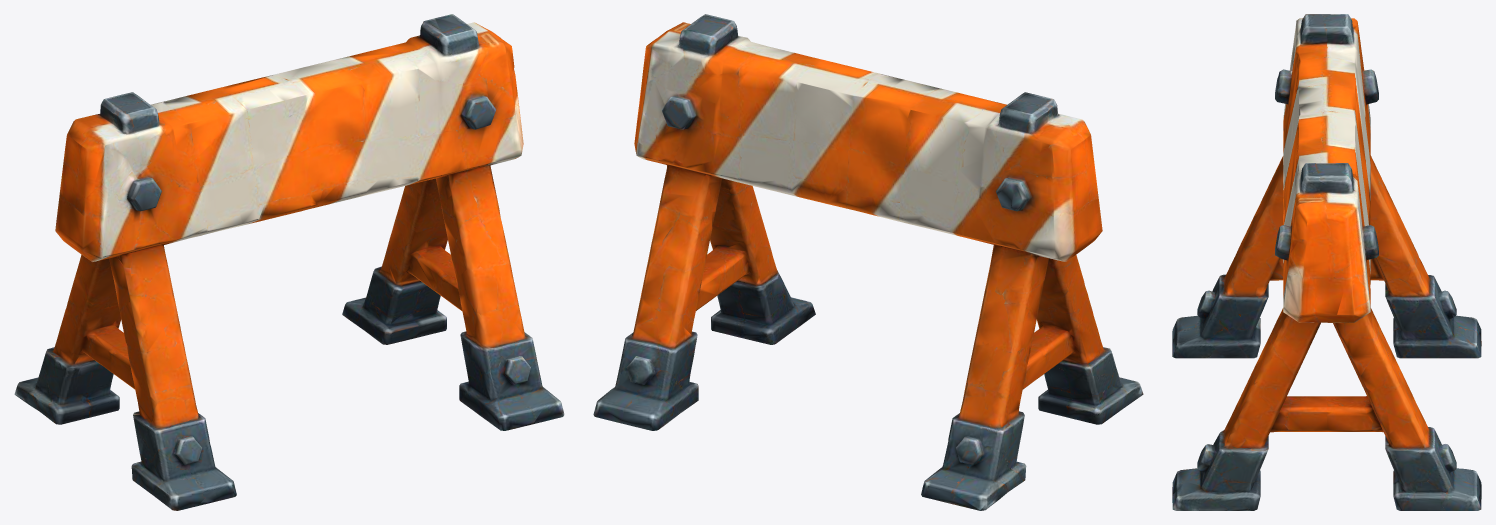
The model's file is construction-barrier.glb.
The picture shows the model from 3 angles, left to right: view 1: azimuth 30°, elevation 25°; view 2: azimuth 150°, elevation 25°; view 3: azimuth 270°, elevation 25°; orthographic projection. The views are drawn at different scales.
Size of the model in its own units: 1.89 by 1.4 by 1.2.
Materials: 1 (1 with a texture image).
